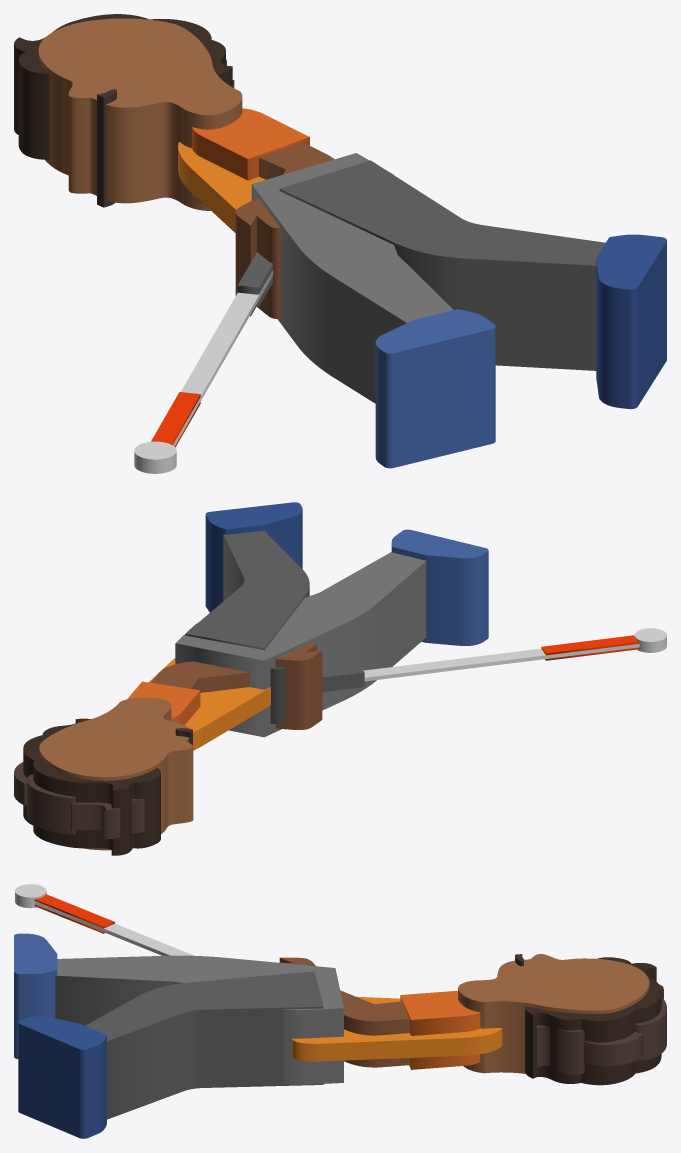
The model's file is emoji_u1f9d1_1f3fe_200d_1f9af.glb.
The picture shows the model from 3 angles, top to bottom: view 1: azimuth 30°, elevation 25°; view 2: azimuth 150°, elevation 25°; view 3: azimuth 270°, elevation 25°; orthographic projection. The views are drawn at different scales.
Parts seen in each view (by area): view 1: emoji_u1f9d1_1f3fe_200d_1f9af; view 2: emoji_u1f9d1_1f3fe_200d_1f9af; view 3: emoji_u1f9d1_1f3fe_200d_1f9af.
Part boxes in pixels (bbox=[...]): emoji_u1f9d1_1f3fe_200d_1f9af: bbox=[14, 14, 666, 473]; emoji_u1f9d1_1f3fe_200d_1f9af: bbox=[14, 502, 666, 855]; emoji_u1f9d1_1f3fe_200d_1f9af: bbox=[14, 884, 666, 1138].
Bounding box in the file's own units: 0.0247 × 0.005 × 0.0333.
